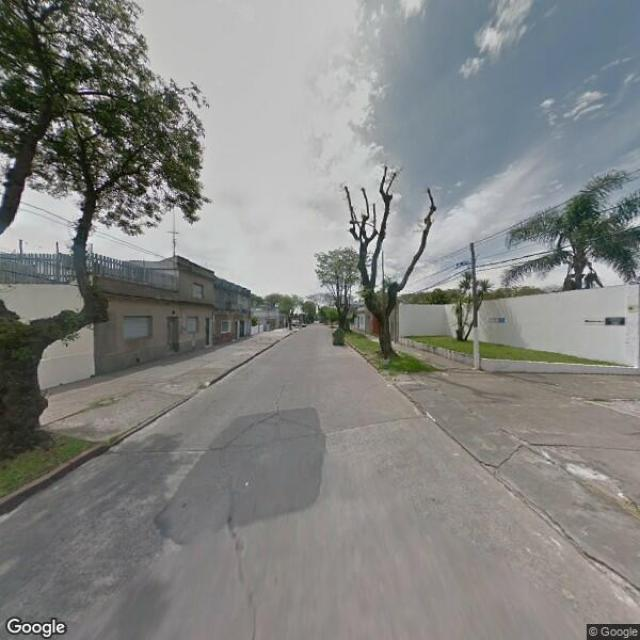garbage container: (328, 325, 351, 351)
